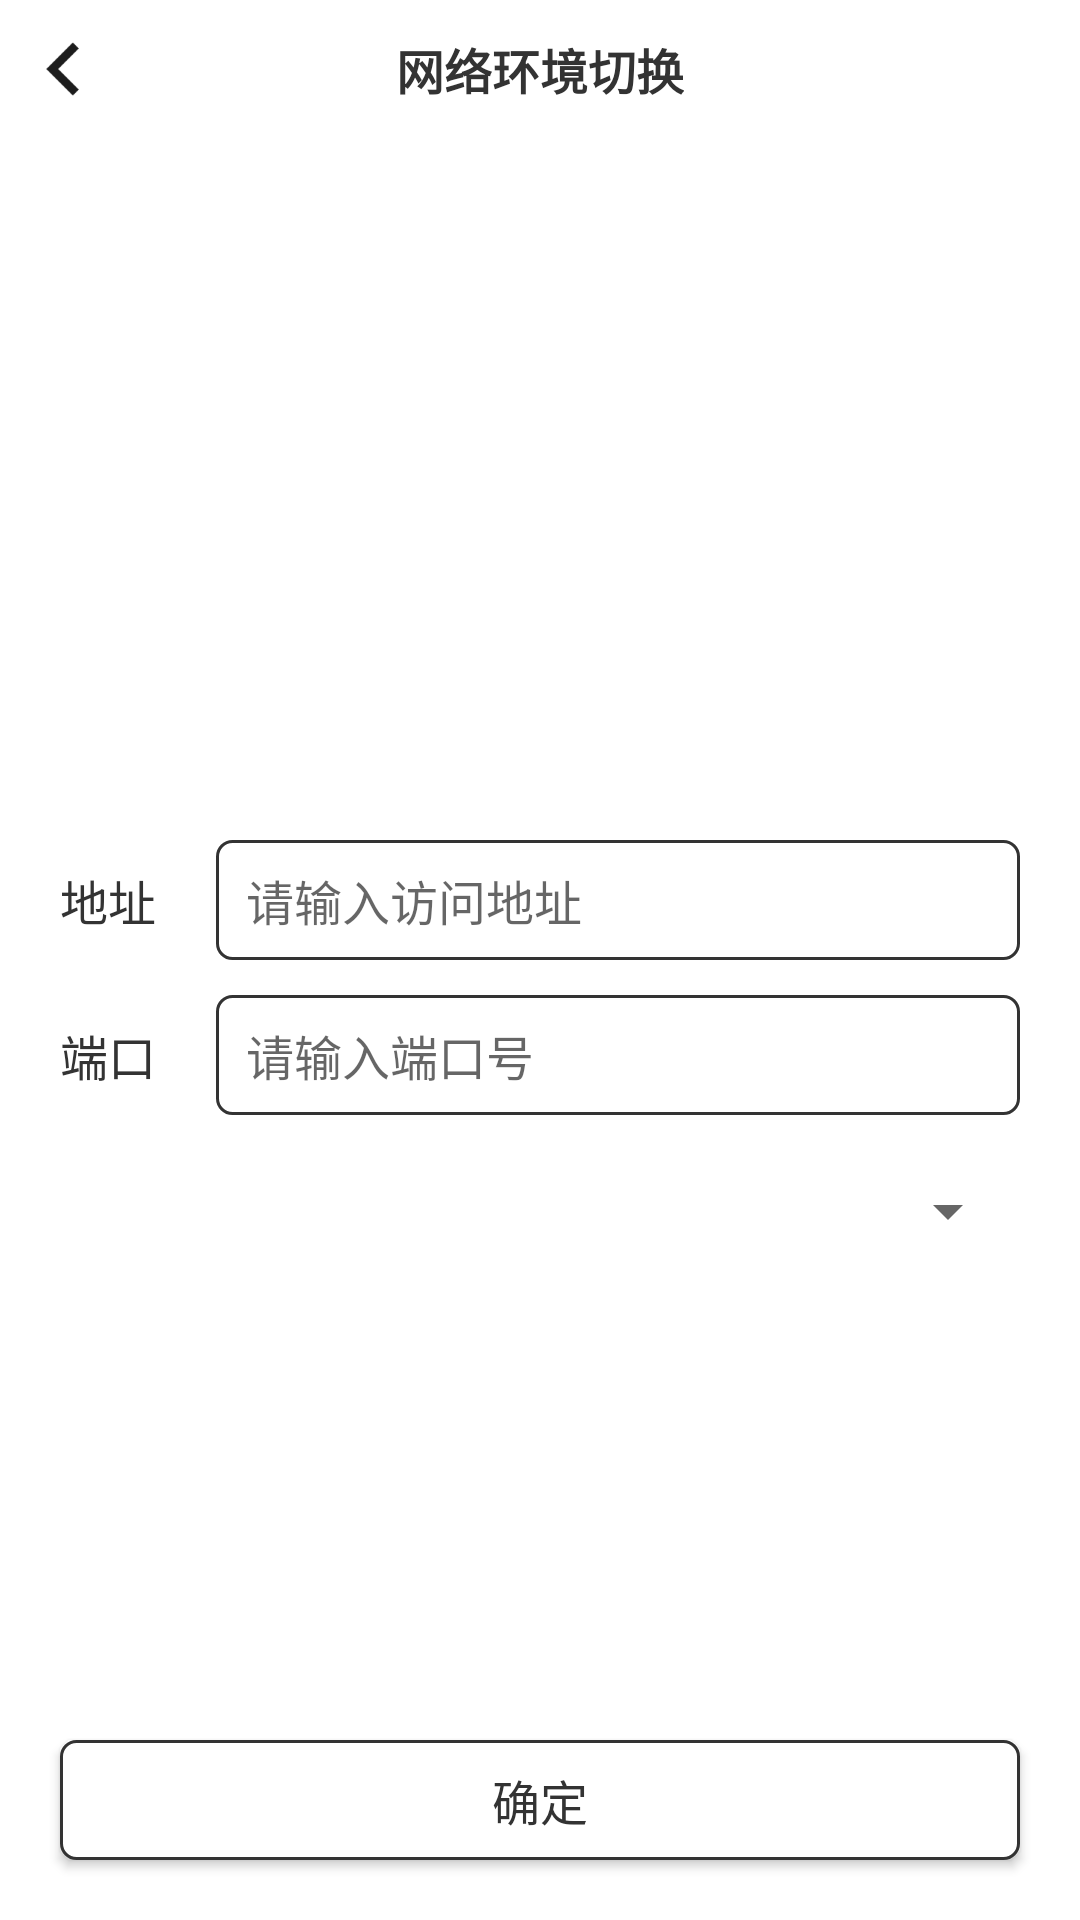

Icon bounding boxes for this 1080 x 1920 phone screenshot, format (x1, y1, x2, y2):
back: (46, 42, 79, 96)
